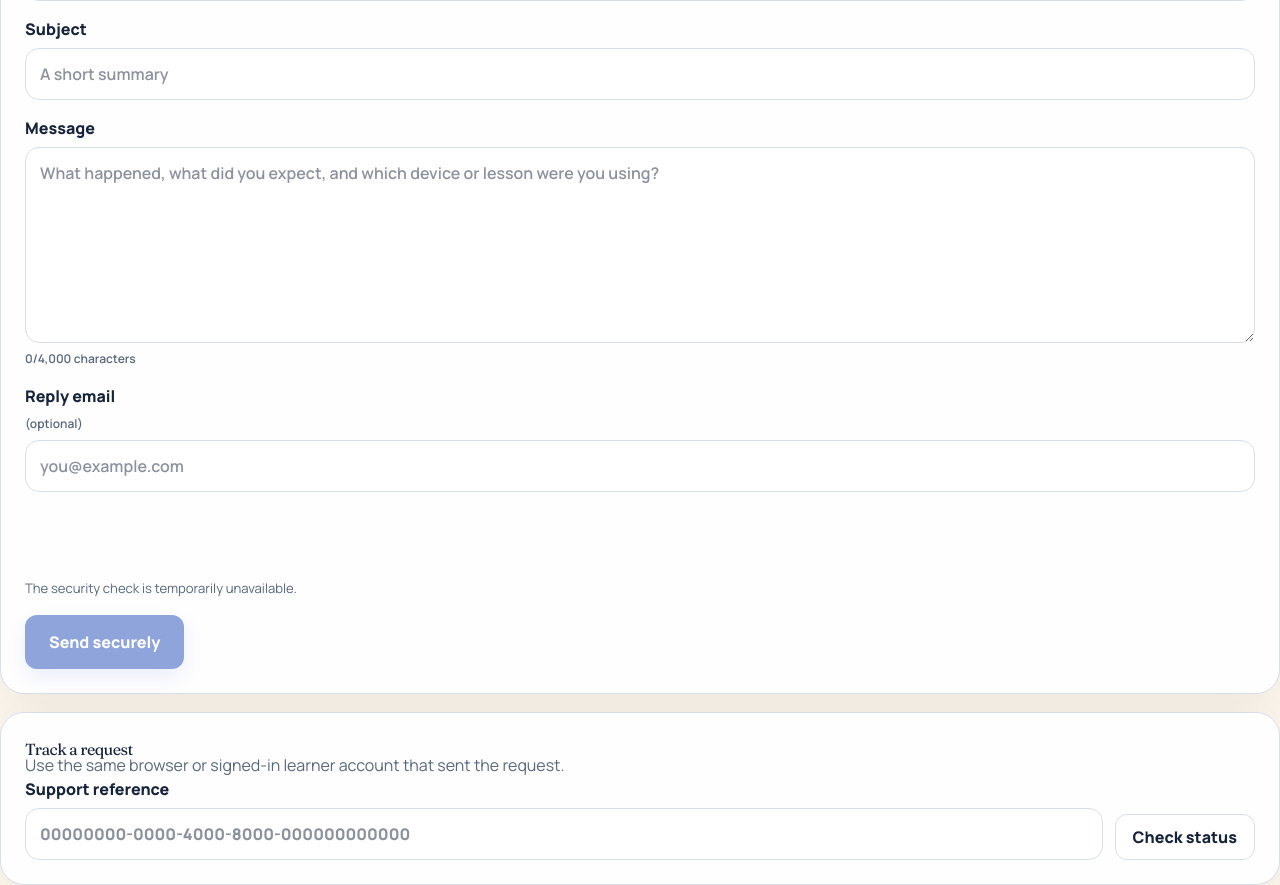
Test: learner support recovery › lets the owning learner track a support request by its receipt
(page scrolled)
Type "b89166f0-19c8-4dc6-9878-a5174623526c" into the field labelled "Support reference".
click(564, 834); type("b89166f0-19c8-4dc6-9878-a5174623526c")  # box x1=25 y1=808 x2=1103 y2=860
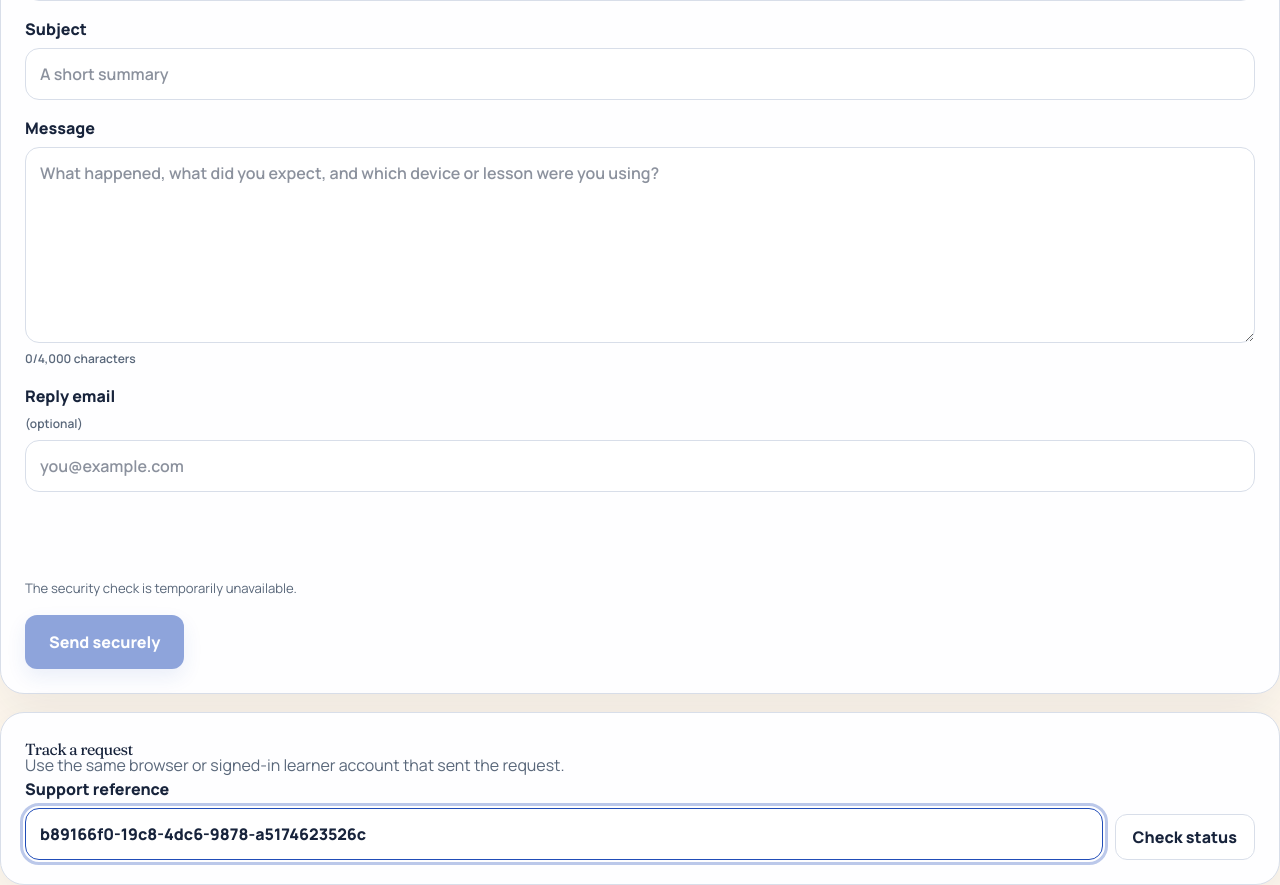
Click the button "Check status".
click(1185, 837)  # box x1=1115 y1=814 x2=1255 y2=860
(page scrolled)
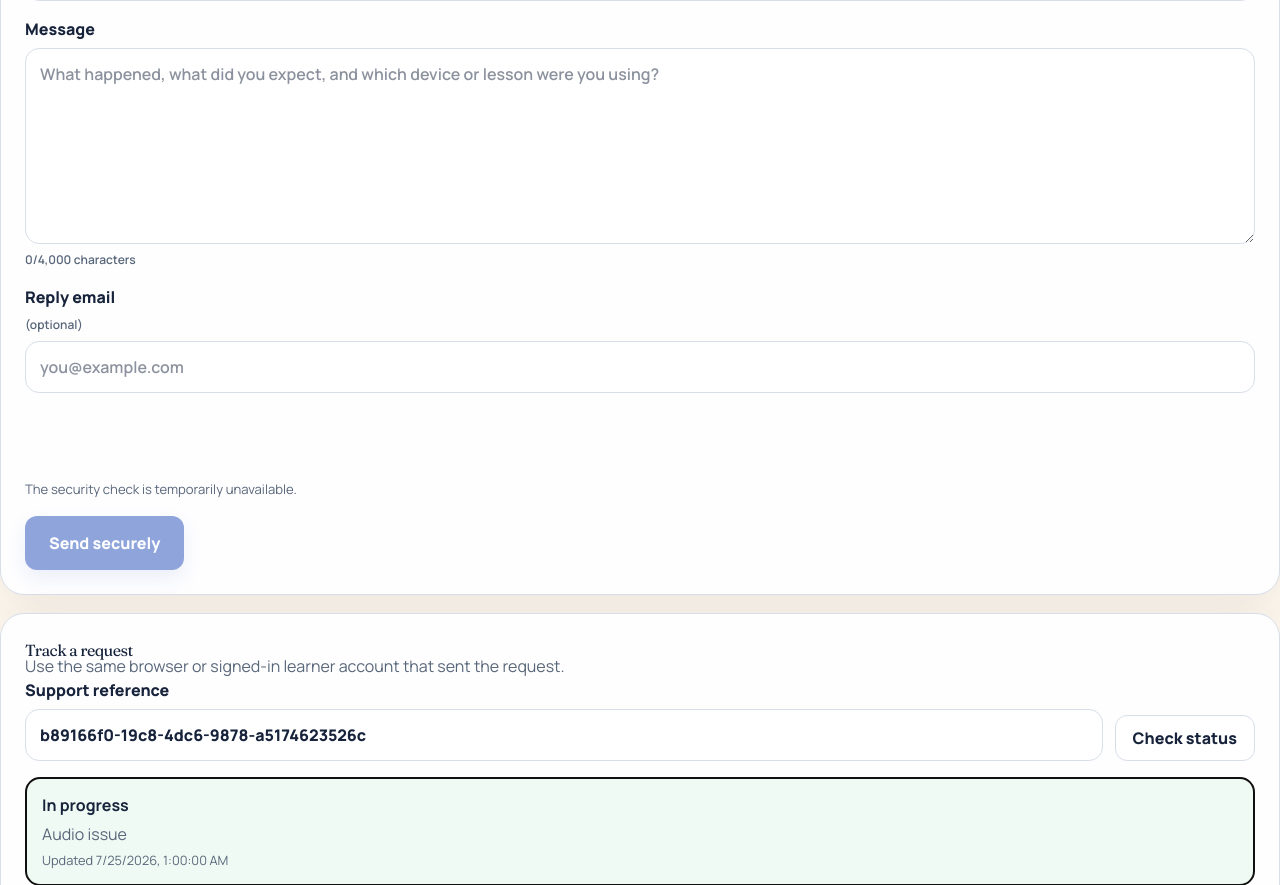
Result: the message shows "In progress" at x1=42 y1=794 x2=129 y2=816
Result: the message shows "Audio issue" at x1=42 y1=823 x2=127 y2=845
